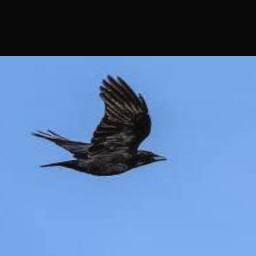Crow: (32, 75, 168, 175)
